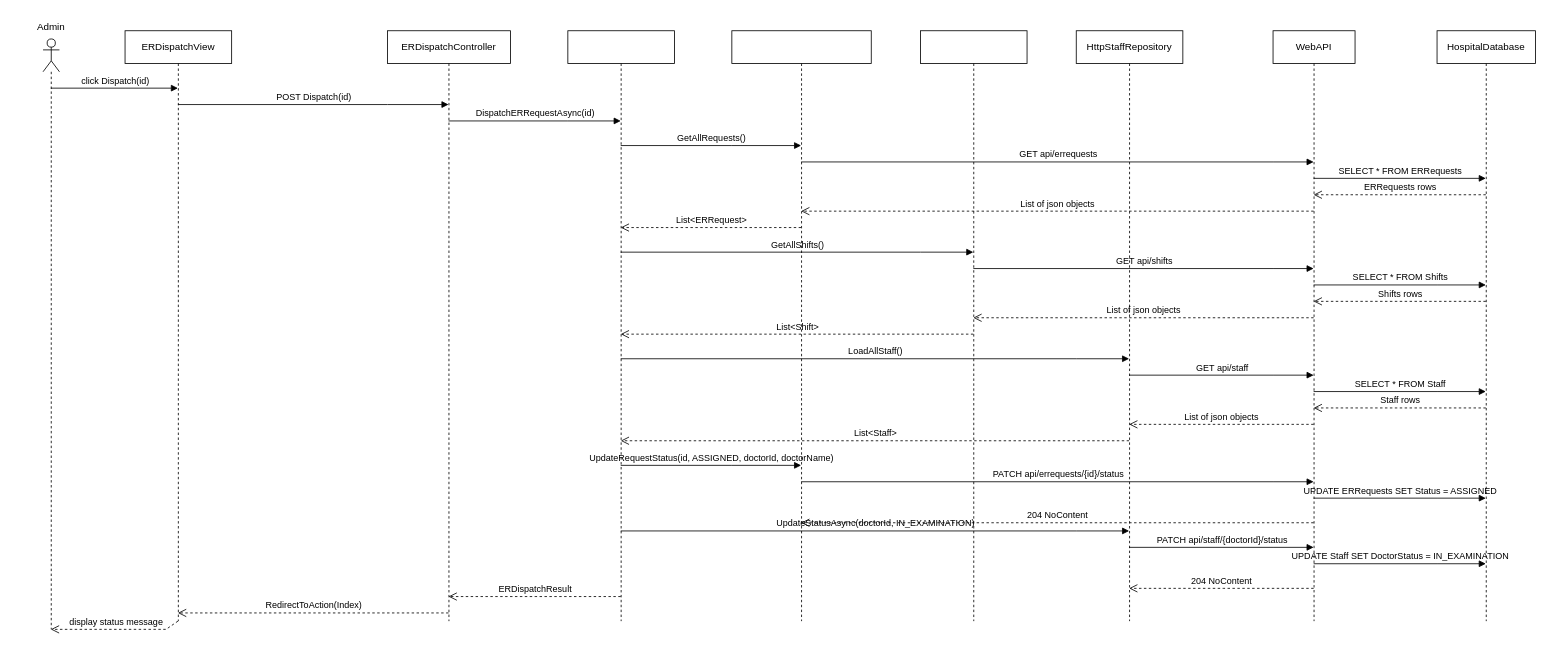
Image size: 1550x652. Some labels were removed from this diagram. The shapes that lost their labels are listed below. From the top down, each one's box as (x1, y1, x2, y2) in pixels, then its label:
(567, 30, 674, 621): ERDispatchService
(731, 30, 871, 621): HttpERDispatchRepository
(920, 30, 1027, 621): HttpShiftRepository
